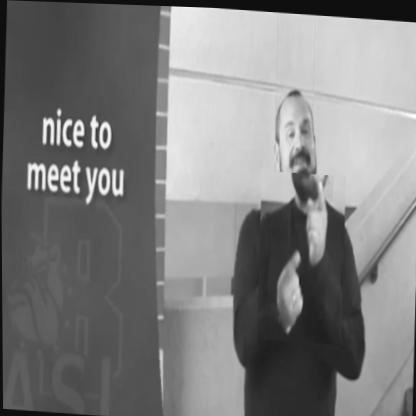NiceToMeetYou: (255, 168, 346, 343)
